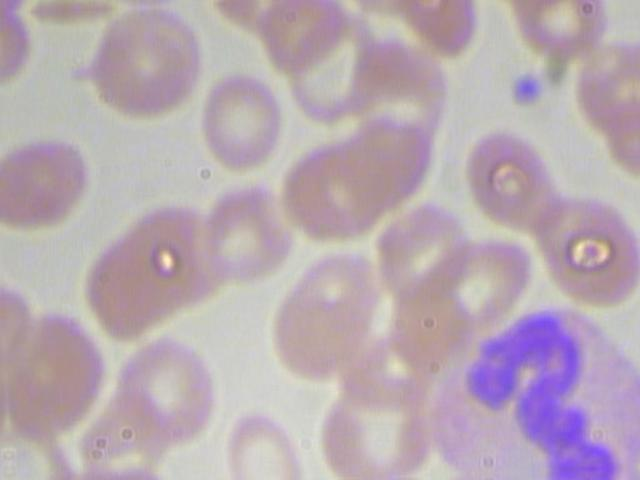Platelets: (340, 41, 457, 153)
RBC: (70, 5, 209, 131), (104, 327, 233, 445), (519, 185, 640, 310), (311, 373, 438, 480), (192, 172, 293, 291), (372, 194, 477, 300), (462, 125, 565, 230), (192, 70, 288, 177), (0, 126, 91, 233), (211, 404, 313, 480), (65, 0, 204, 8)
WBC: (505, 69, 544, 111)
